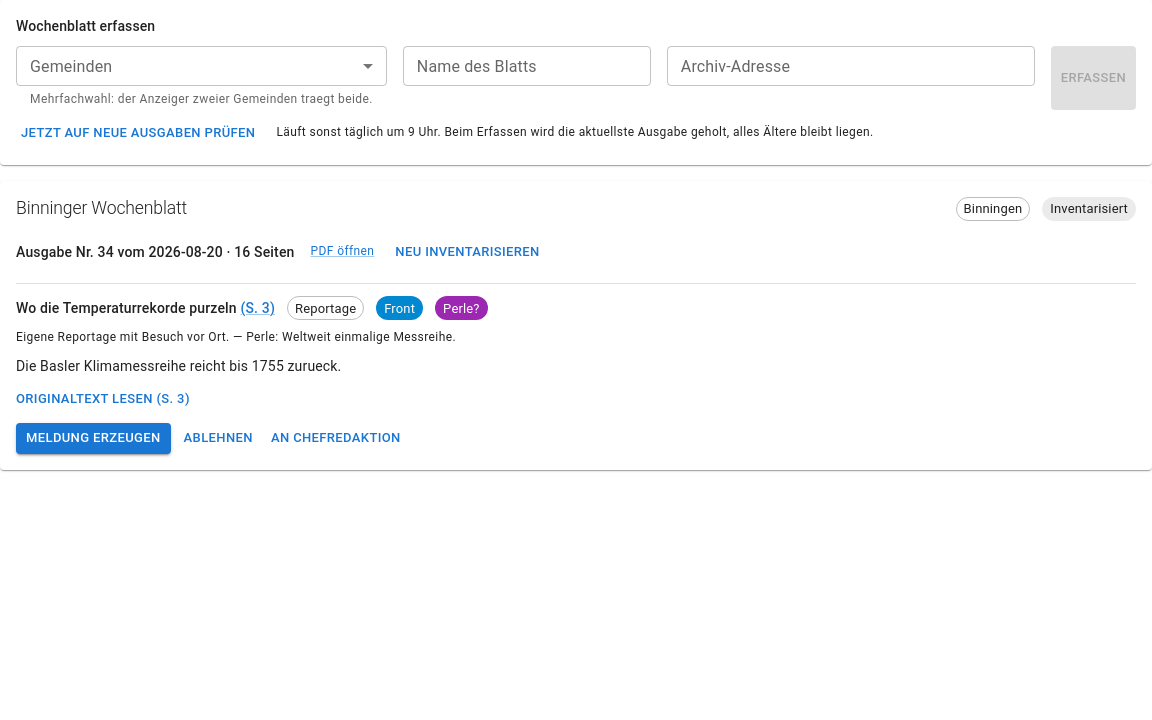
Scenario: Presseschau › klappt den Originaltext der Seite auf — geprueft wird am Original, nie an der Zusammenfassung
expect the text "Wortlaut der Reportage" is not shown: met
Click the button "Originaltext lesen (S. 3)". click: (103, 400)
box: x1=16 y1=384 x2=190 y2=415
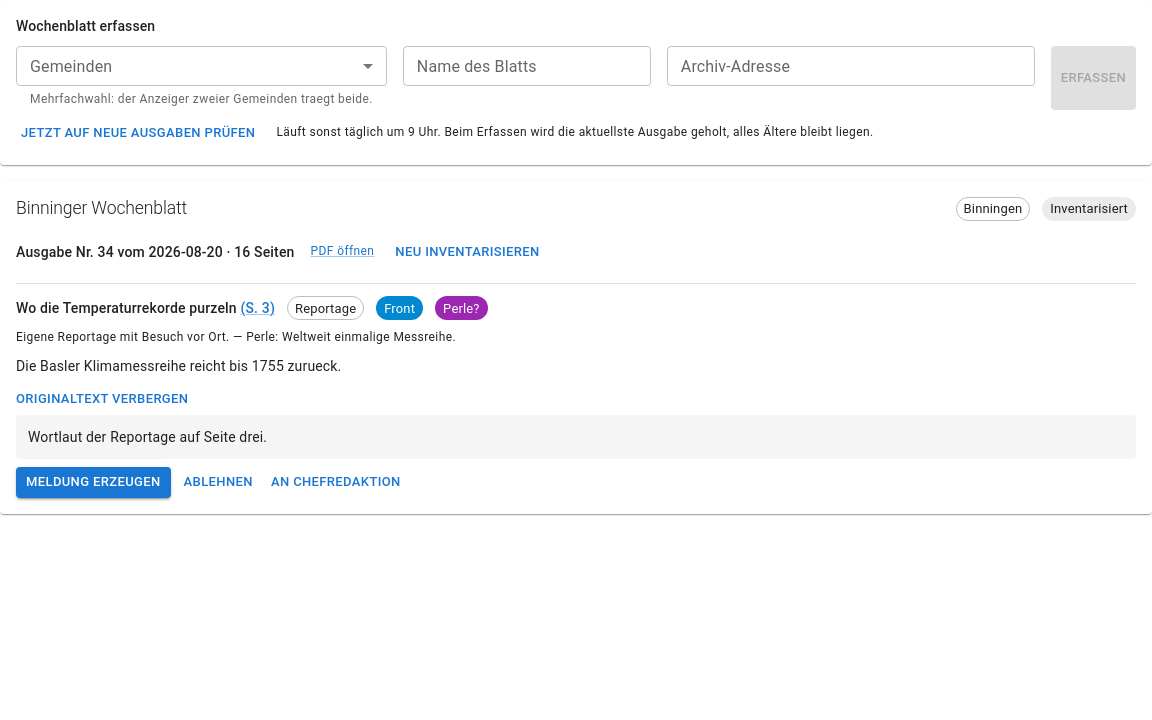
expect the text "Wortlaut der Reportage auf Seite drei." is shown: met, box x1=28 y1=429 x2=267 y2=445
